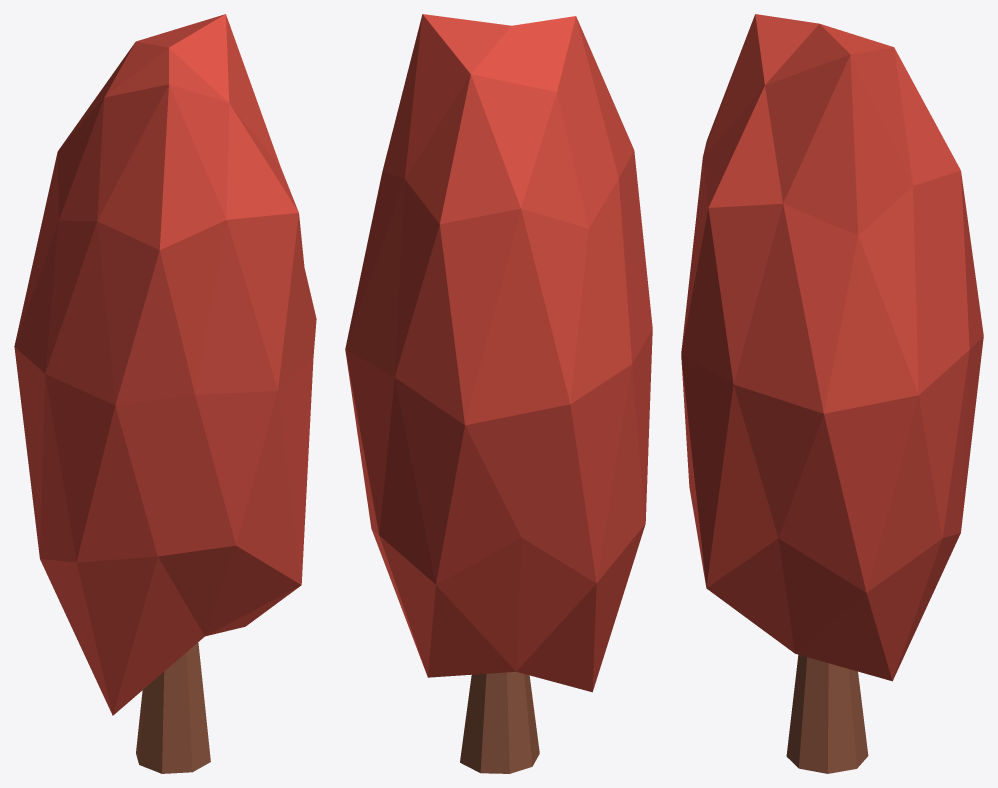
Rendered from Tree_05_summer_red_pal.fbx.
The picture shows the model from 3 angles, left to right: view 1: azimuth 30°, elevation 25°; view 2: azimuth 150°, elevation 25°; view 3: azimuth 270°, elevation 25°; orthographic projection. The views are drawn at different scales.
Parts seen in each view (by area): view 1: Tree_05_summer_red_pal; view 2: Tree_05_summer_red_pal; view 3: Tree_05_summer_red_pal.
Part boxes in pixels (x1=…): Tree_05_summer_red_pal: x1=14, y1=14, x2=316, y2=773; Tree_05_summer_red_pal: x1=345, y1=14, x2=652, y2=773; Tree_05_summer_red_pal: x1=681, y1=14, x2=983, y2=773.
Bounding box in the file's own units: 104 × 266 × 99.25.
